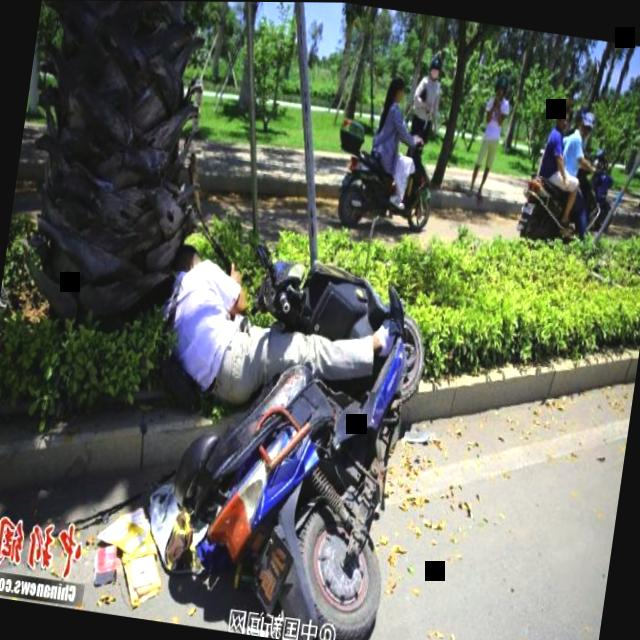Fall-Detected: (138, 221, 422, 424)
